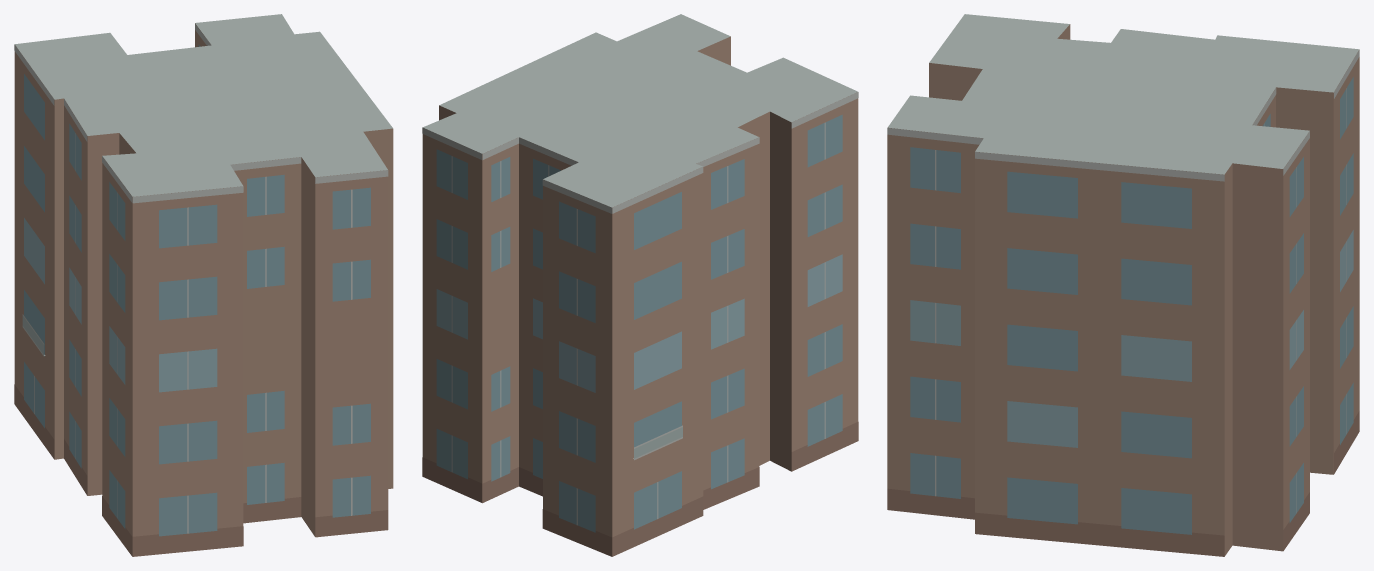
The model's file is survey-upis-32657222.glb.
3 renders of one model, left to right at view 1: azimuth 30°, elevation 25°; view 2: azimuth 150°, elevation 25°; view 3: azimuth 270°, elevation 25°, orthographic. The views are drawn at different scales.
Parts seen in each view (by area): view 1: survey-upis-32657222.tmp; view 2: survey-upis-32657222.tmp; view 3: survey-upis-32657222.tmp.
Part boxes in pixels (<box>): survey-upis-32657222.tmp: <box>14,14,393,556</box>; survey-upis-32657222.tmp: <box>422,14,858,556</box>; survey-upis-32657222.tmp: <box>887,14,1359,556</box>.
Bounding box in the file's own units: 11.99 × 13.3 × 14.89.
